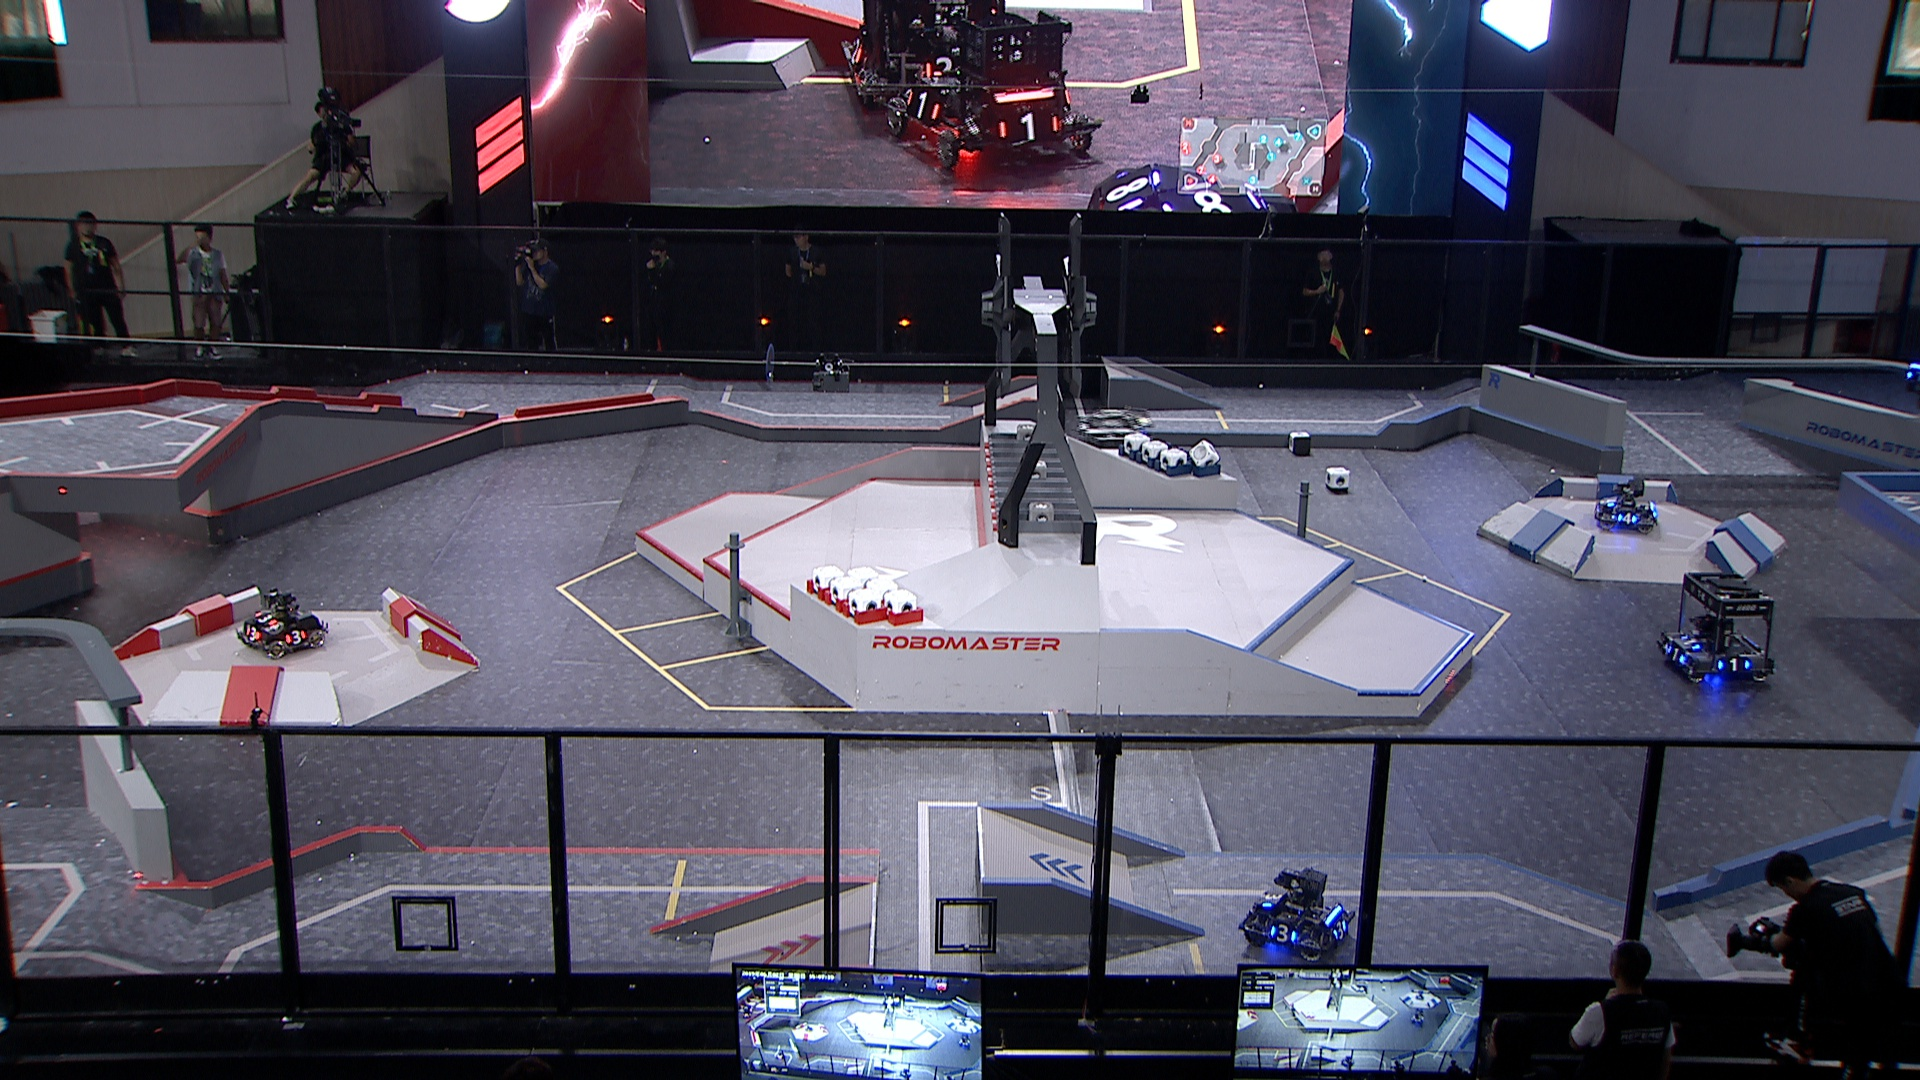armor: (1269, 922, 1299, 945), (1716, 655, 1751, 673), (1677, 632, 1702, 651), (1259, 887, 1282, 909), (1331, 916, 1348, 942), (1665, 646, 1688, 665), (282, 628, 306, 645), (243, 624, 262, 644), (1614, 512, 1638, 527), (253, 612, 277, 628)
car: (1656, 571, 1779, 684), (1236, 864, 1354, 960), (1073, 404, 1155, 493), (233, 589, 328, 659), (1593, 477, 1659, 534)
ignore: (874, 7, 1101, 169), (839, 1, 1007, 104), (1083, 162, 1300, 215)
watcher: (1904, 357, 1920, 409)
